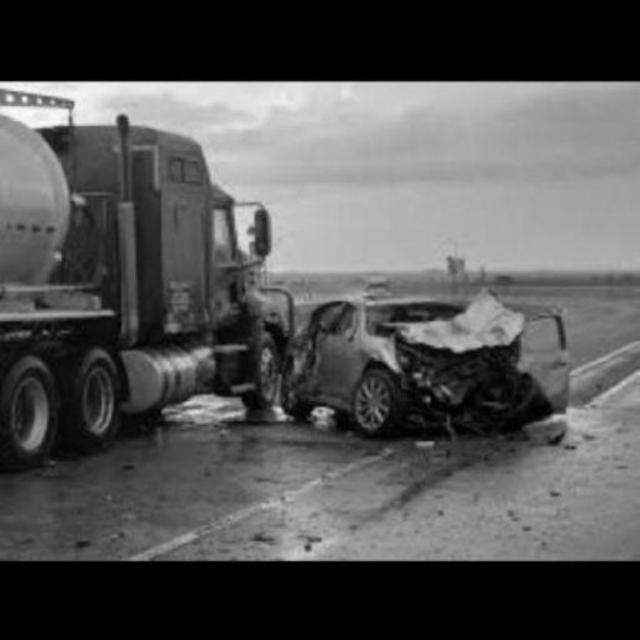accident: (4, 213, 522, 475)
